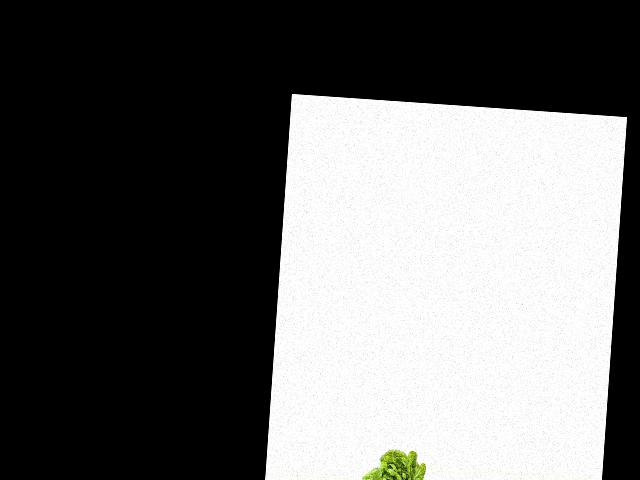lettuce: (359, 446, 425, 480)
